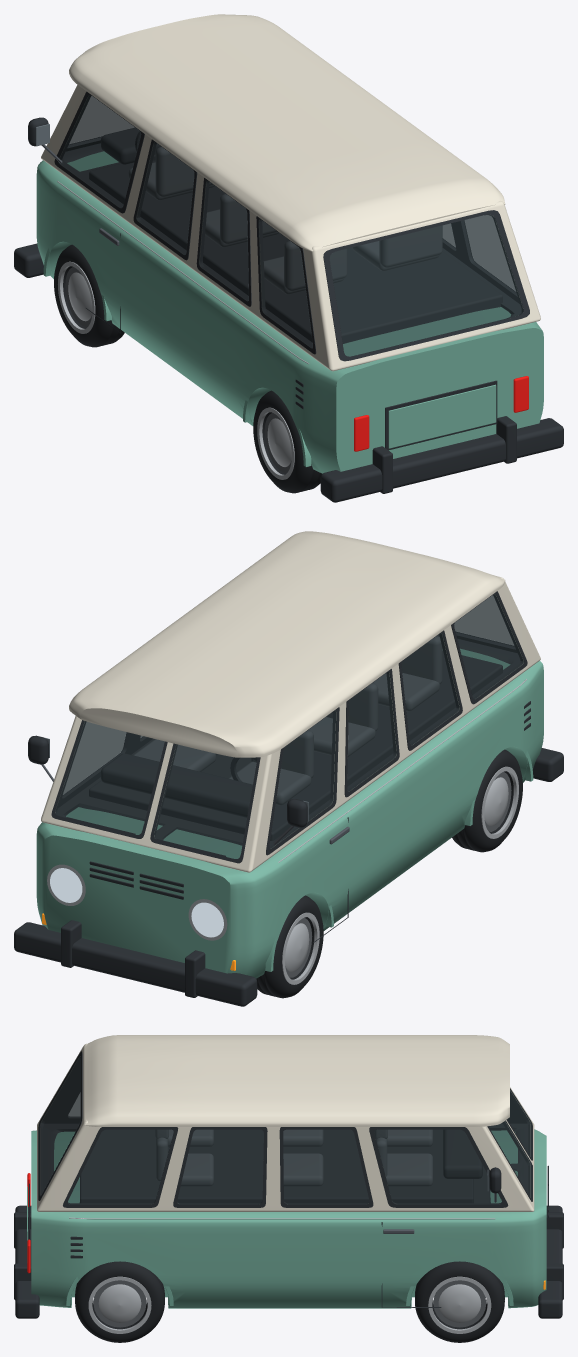
File: retro-van.glb
3 views of the same model, one above another, from view 1: azimuth 30°, elevation 25°; view 2: azimuth 150°, elevation 25°; view 3: azimuth 270°, elevation 25° (orthographic). The views are drawn at different scales.
Parts seen in each view (by area): view 1: Body geometry, Running wheel geometry.002, Running wheel geometry; view 2: Body geometry, Running wheel geometry.002, Running wheel geometry; view 3: Body geometry, Running wheel geometry.003, Running wheel geometry.001.
Boxes of the visible parts, left/top/right/bottom form: Body geometry: left=14, top=14, right=563, bottom=502; Running wheel geometry.002: left=253, top=390, right=322, bottom=493; Running wheel geometry: left=54, top=244, right=124, bottom=347; Body geometry: left=14, top=531, right=563, bottom=1006; Running wheel geometry.002: left=452, top=749, right=522, bottom=852; Running wheel geometry: left=256, top=895, right=323, bottom=998; Body geometry: left=14, top=1035, right=563, bottom=1318; Running wheel geometry.003: left=75, top=1261, right=164, bottom=1342; Running wheel geometry.001: left=415, top=1261, right=504, bottom=1342.
Bounding box in the file's own units: 1.48 × 1.38 × 2.98.
